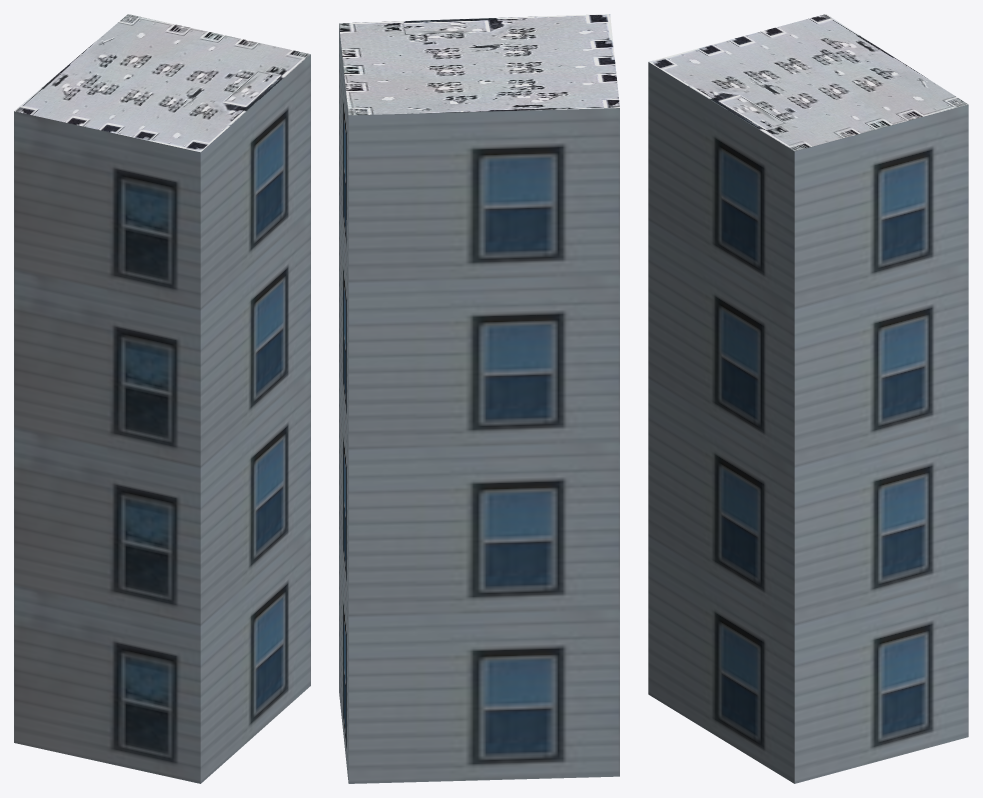
The model's file is ResTex__2798.fbx.
The picture shows the model from 3 angles, left to right: view 1: azimuth 30°, elevation 25°; view 2: azimuth 150°, elevation 25°; view 3: azimuth 270°, elevation 25°; orthographic projection. The views are drawn at different scales.
Parts seen in each view (by area): view 1: CityEngineMaterial_18_m, CityEngineMaterial_m; view 2: CityEngineMaterial_18_m, CityEngineMaterial_m; view 3: CityEngineMaterial_18_m, CityEngineMaterial_m.
Boxes of the visible parts, left/top/right/bottom form: CityEngineMaterial_18_m: left=14, top=54, right=310, bottom=783; CityEngineMaterial_m: left=14, top=14, right=310, bottom=152; CityEngineMaterial_18_m: left=339, top=25, right=619, bottom=783; CityEngineMaterial_m: left=339, top=14, right=619, bottom=115; CityEngineMaterial_18_m: left=648, top=62, right=968, bottom=783; CityEngineMaterial_m: left=648, top=14, right=968, bottom=151.
Bounding box in the file's own units: 5.59 × 12 × 5.51.
2 materials, 2 textured.
